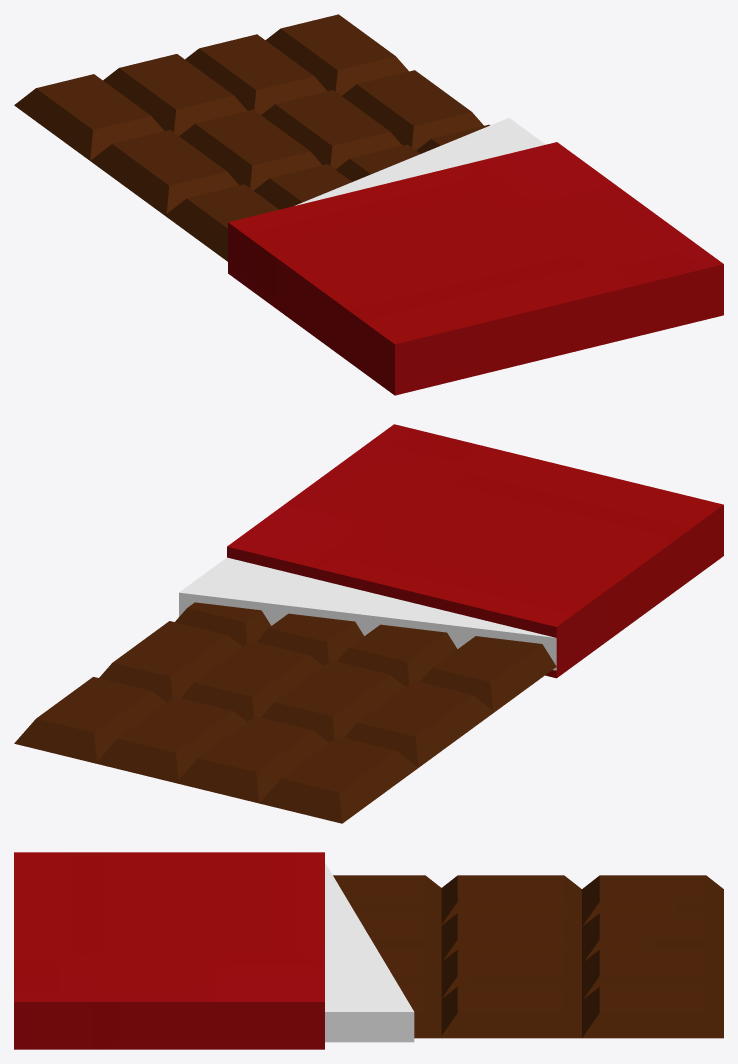
File: Candy_4.fbx
3 views of the same model, one above another, from view 1: azimuth 30°, elevation 25°; view 2: azimuth 150°, elevation 25°; view 3: azimuth 270°, elevation 25° (orthographic). The views are drawn at different scales.
Visible parts, largest first — view 1: Candy_4; view 2: Candy_4; view 3: Candy_4.
Part boxes in pixels (bbox=[...]): Candy_4: bbox=[14, 14, 723, 395]; Candy_4: bbox=[14, 424, 723, 823]; Candy_4: bbox=[14, 852, 723, 1049].
Size of the model in its own units: 83.81 by 12.46 by 168.
